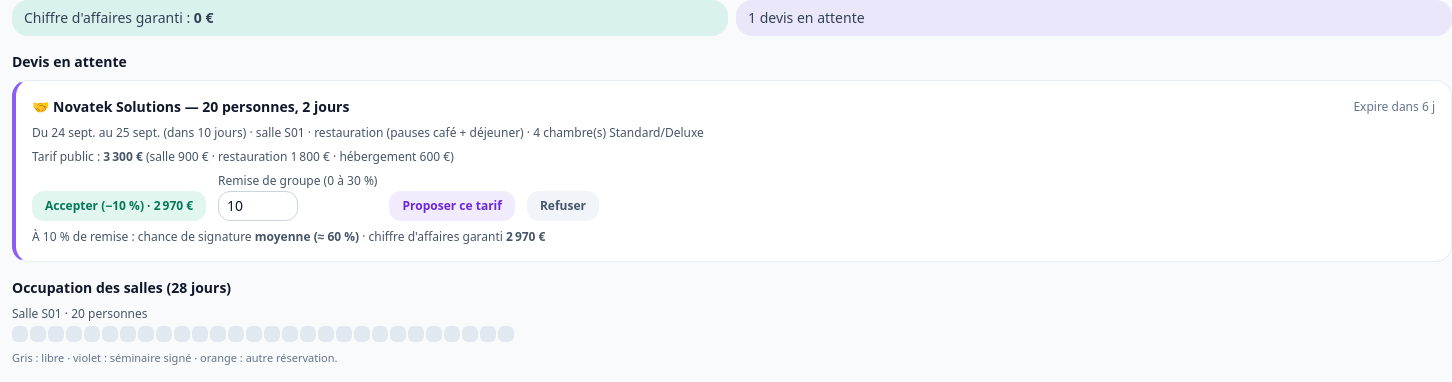
MicePanel / answering › shows the chance of signing and the guaranteed revenue at the discount offered, and they follow the discount
The image size is (1452, 382).
Step 1. Replace the text in the number field with test id "mice-discount-1" with "25" → [258, 206], box [218,191,298,221]
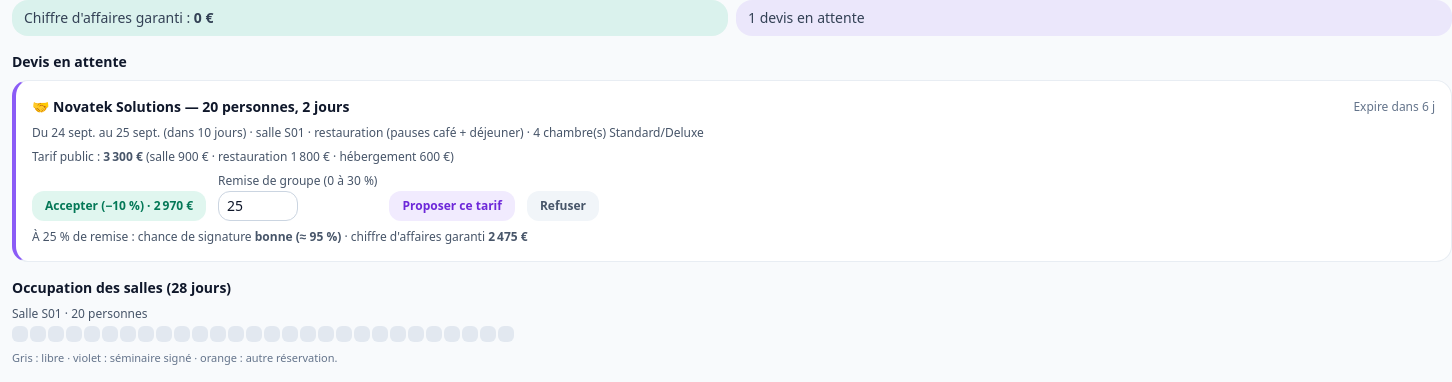
Expected: the element with test id "mice-chance-1" shows "À 25 % de remise", [32,228,528,245]
Expected: the element with test id "mice-chance-1" shows "bonne (≈ 95 %)", [255,228,341,245]
Step 2. Replace the text in the number field with test id "mice-discount-1" with "0" → [258, 206], box [218,191,298,221]
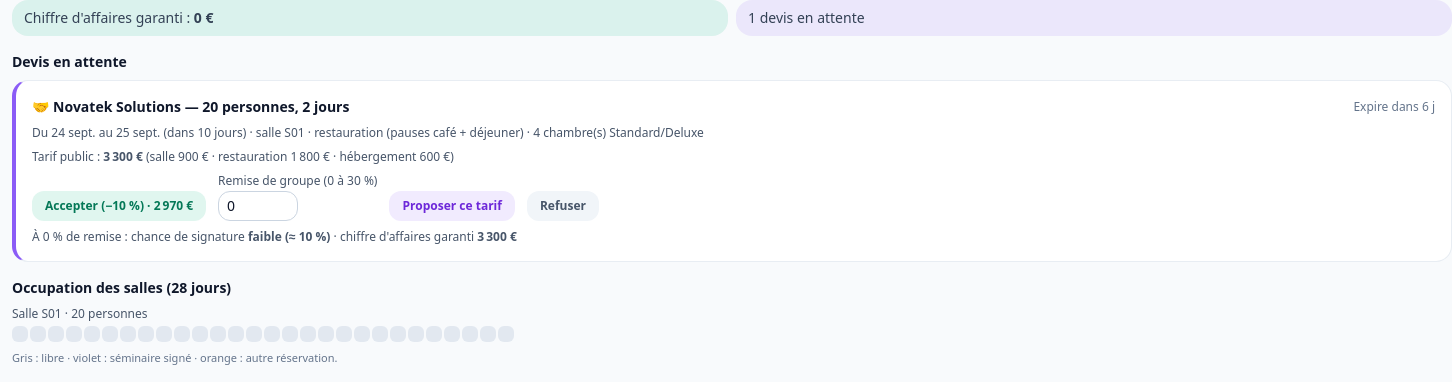
Expected: the element with test id "mice-chance-1" shows "faible", [248,228,330,245]
